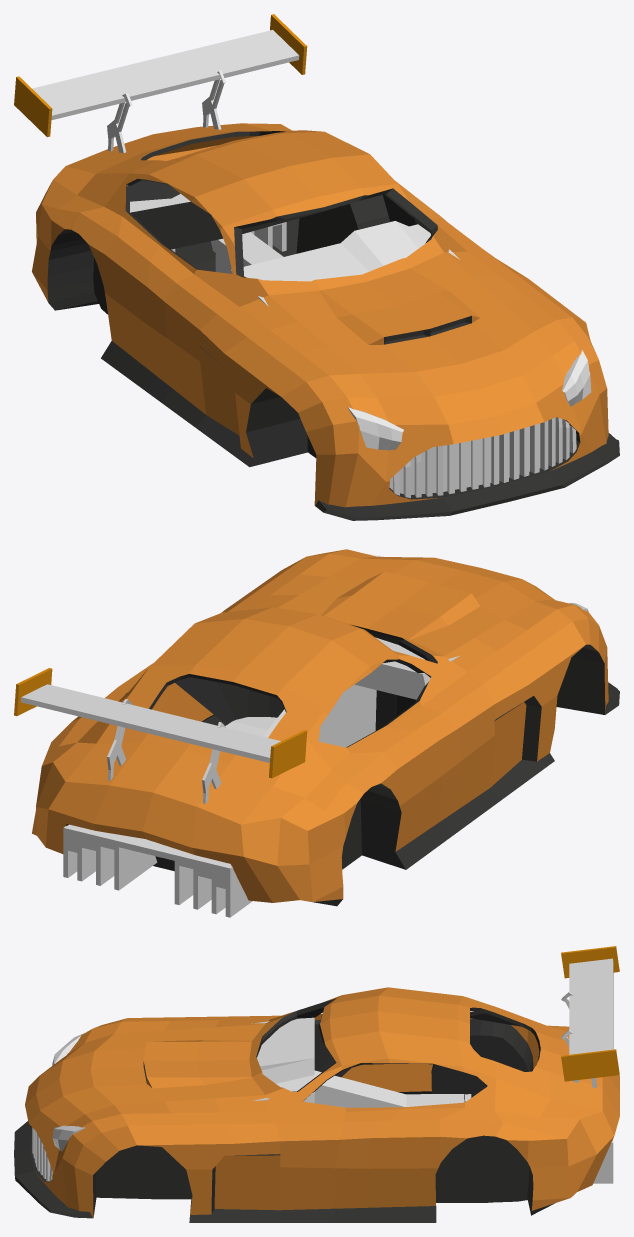
File: amggt3.fbx
3 renders of one model, top to bottom at view 1: azimuth 30°, elevation 25°; view 2: azimuth 150°, elevation 25°; view 3: azimuth 270°, elevation 25°, orthographic. The views are drawn at different scales.
Parts seen in each view (by area): view 1: Body, Heckspoiler, Grill, Interrior, LichterFrint, Spilerhalter, Diffusor; view 2: Body, Heckspoiler, Diffusor, Interrior, Spilerhalter; view 3: Body, Heckspoiler, Interrior, LichterFrint, Grill, Diffusor.
Boxes of the visible parts, x1,y1,x2,y2 form: Body: [32, 123, 619, 520]; Heckspoiler: [14, 14, 307, 137]; Grill: [389, 417, 576, 498]; Interrior: [215, 221, 459, 306]; LichterFrint: [347, 350, 591, 450]; Spilerhalter: [107, 70, 225, 153]; Diffusor: [130, 194, 286, 252]; Body: [32, 549, 619, 906]; Heckspoiler: [14, 668, 307, 778]; Diffusor: [63, 824, 252, 917]; Interrior: [225, 637, 459, 747]; Spilerhalter: [107, 699, 225, 804]; Body: [14, 987, 619, 1222]; Heckspoiler: [561, 946, 619, 1081]; Interrior: [252, 1017, 471, 1107]; LichterFrint: [52, 1033, 85, 1151]; Grill: [32, 1127, 52, 1181]; Diffusor: [593, 1139, 613, 1183].
Size of the model in its own units: 239 by 146 by 490.
